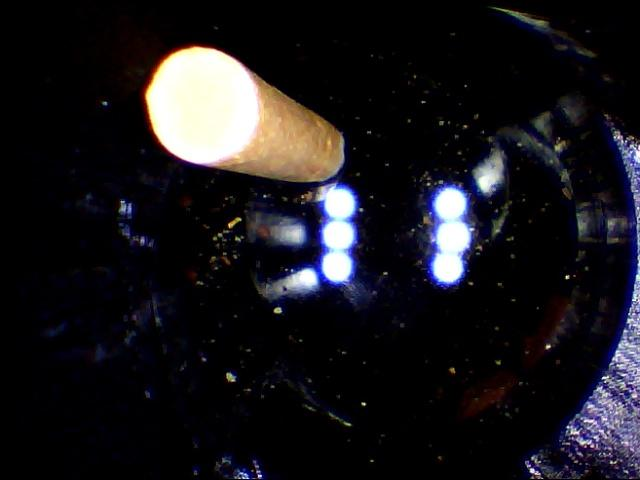megot: (139, 40, 346, 205)
